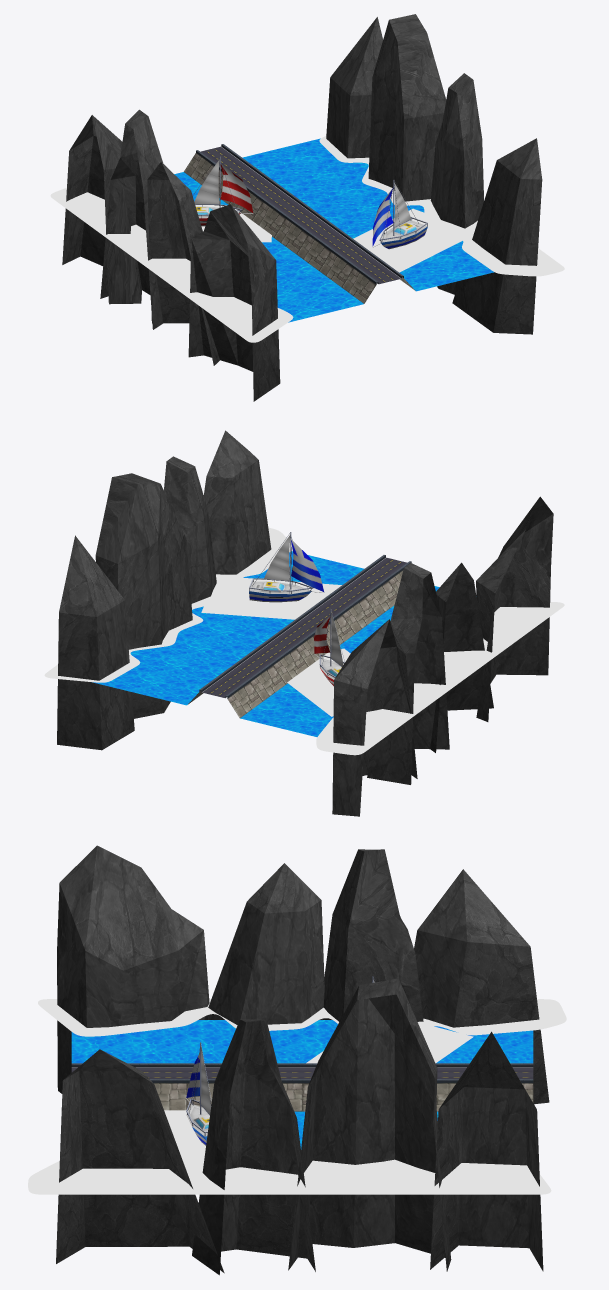
Rendered from City_12.fbx.
3 renders of one model, top to bottom at view 1: azimuth 30°, elevation 25°; view 2: azimuth 150°, elevation 25°; view 3: azimuth 270°, elevation 25°, orthographic. The views are drawn at different scales.
Visible parts, largest first — view 1: City_12; view 2: City_12; view 3: City_12.
Boxes of the visible parts, bbox=[...] form: City_12: bbox=[50, 14, 564, 401]; City_12: bbox=[44, 430, 564, 816]; City_12: bbox=[28, 845, 566, 1275].
Bounding box in the file's own units: 22617 × 13384 × 25170.
